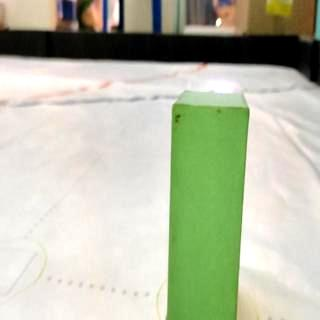greenbox: (169, 87, 253, 320)
